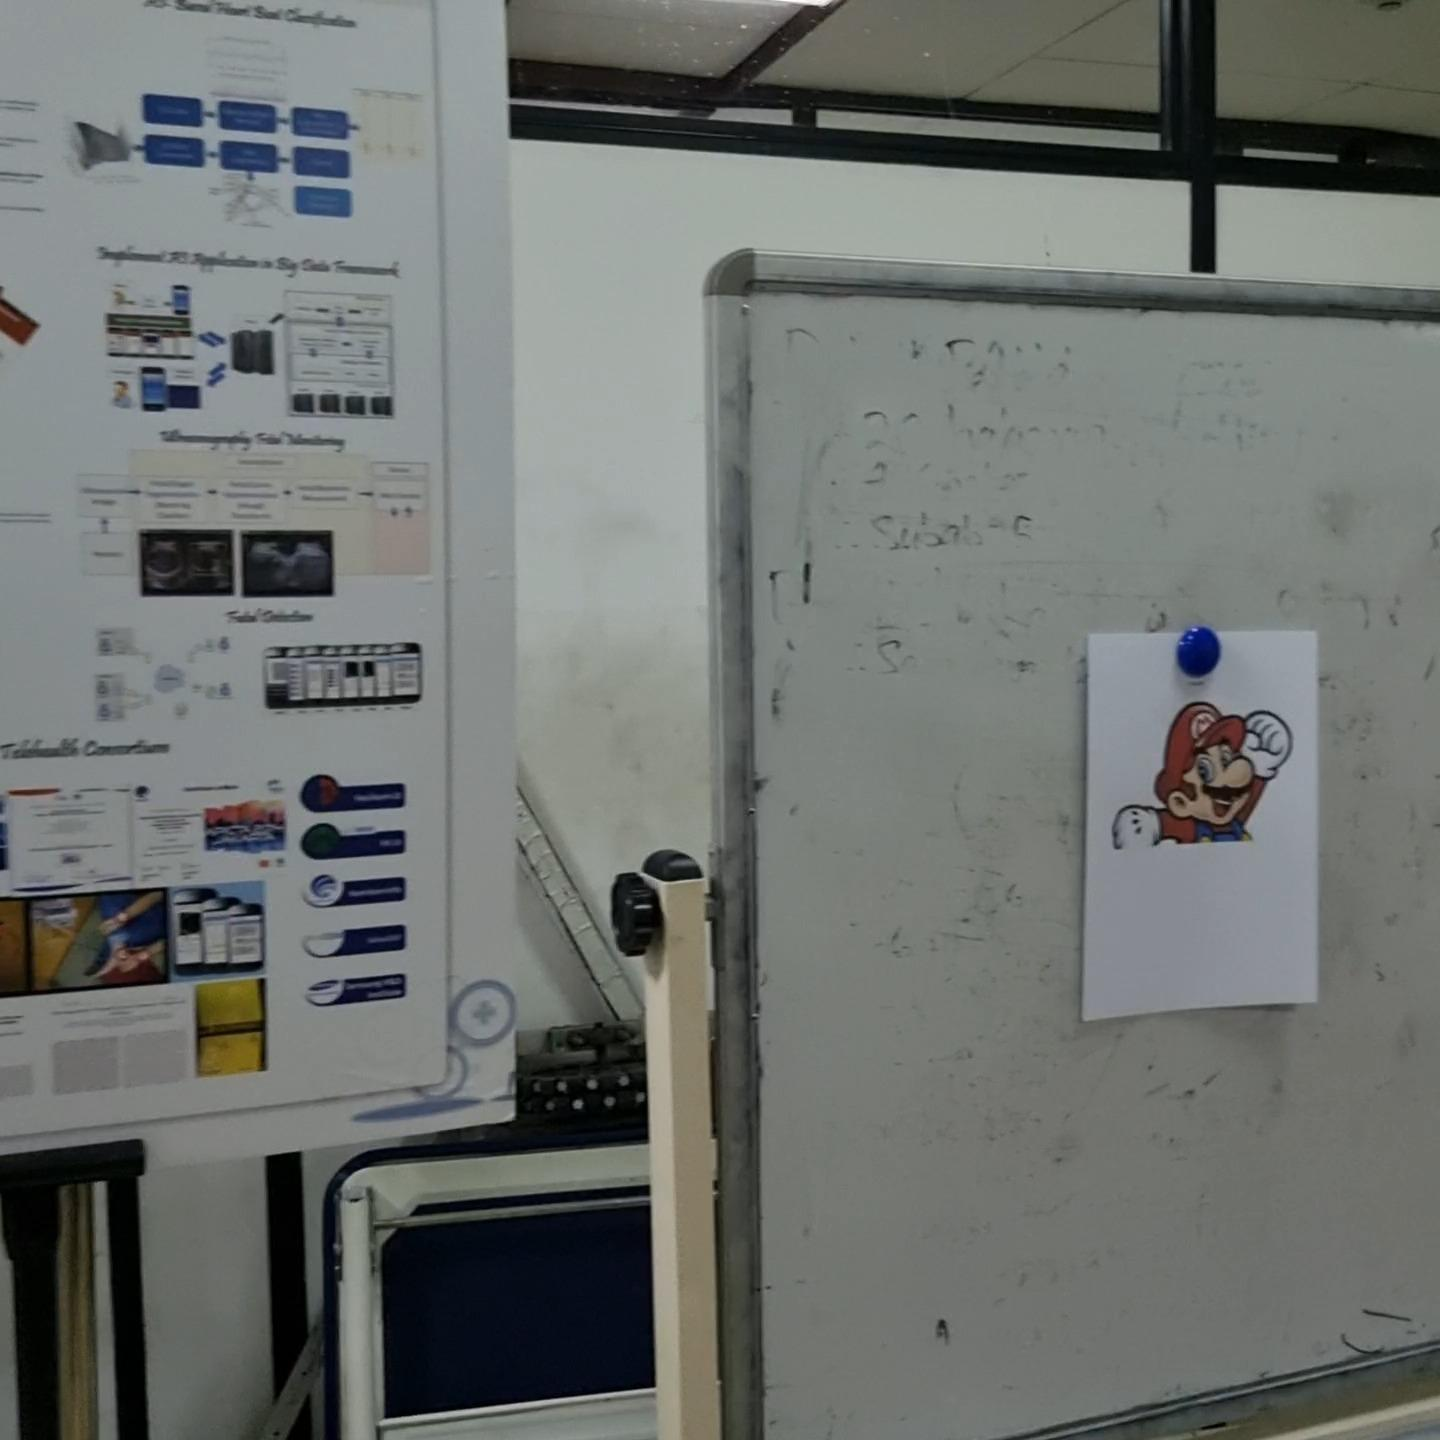mario: (1108, 698, 1298, 858)
